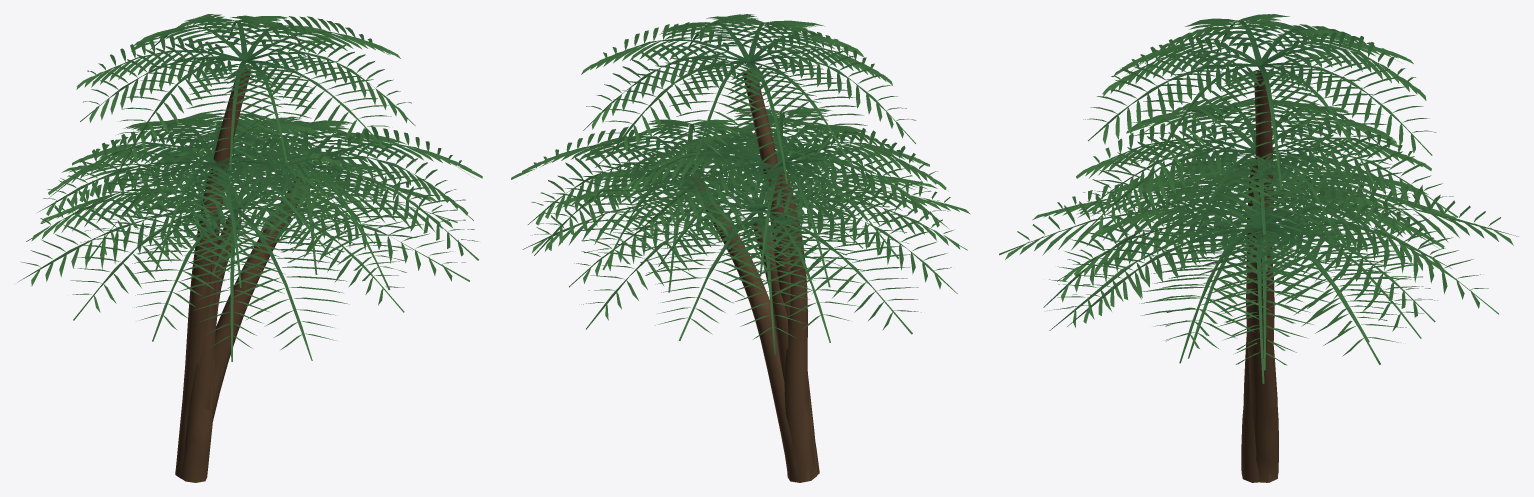
File: palm_library_lod1.glb
3 renders of one model, left to right at view 1: azimuth 30°, elevation 25°; view 2: azimuth 150°, elevation 25°; view 3: azimuth 270°, elevation 25°, orthographic. The views are drawn at different scales.
Visible parts, largest first — view 1: GEO_palm_wide_fronds_lod1, GEO_palm_upright_fronds_lod1, GEO_palm_tall_fronds_lod1, GEO_palm_leaning_fronds_lod1, GEO_palm_tall_trunk_lod1, GEO_palm_upright_trunk_lod1, GEO_palm_leaning_trunk_lod1, GEO_palm_wide_trunk_lod1; view 2: GEO_palm_wide_fronds_lod1, GEO_palm_tall_fronds_lod1, GEO_palm_upright_fronds_lod1, GEO_palm_leaning_fronds_lod1, GEO_palm_upright_trunk_lod1, GEO_palm_leaning_trunk_lod1, GEO_palm_tall_trunk_lod1, GEO_palm_wide_trunk_lod1; view 3: GEO_palm_leaning_fronds_lod1, GEO_palm_upright_fronds_lod1, GEO_palm_tall_fronds_lod1, GEO_palm_wide_fronds_lod1, GEO_palm_leaning_trunk_lod1, GEO_palm_wide_trunk_lod1, GEO_palm_tall_trunk_lod1.
Part boxes in pixels (x1,y1,x2,y2): GEO_palm_wide_fronds_lod1: (17, 145, 469, 361); GEO_palm_upright_fronds_lod1: (37, 113, 379, 287); GEO_palm_tall_fronds_lod1: (76, 14, 415, 171); GEO_palm_leaning_fronds_lod1: (132, 116, 482, 289); GEO_palm_tall_trunk_lod1: (182, 68, 250, 482); GEO_palm_upright_trunk_lod1: (175, 173, 221, 478); GEO_palm_leaning_trunk_lod1: (175, 177, 302, 476); GEO_palm_wide_trunk_lod1: (178, 214, 241, 482); GEO_palm_wide_fronds_lod1: (522, 135, 970, 354); GEO_palm_tall_fronds_lod1: (581, 14, 915, 183); GEO_palm_upright_fronds_lod1: (606, 108, 948, 287); GEO_palm_leaning_fronds_lod1: (511, 119, 871, 292); GEO_palm_upright_trunk_lod1: (778, 171, 816, 482); GEO_palm_leaning_trunk_lod1: (688, 175, 816, 482); GEO_palm_tall_trunk_lod1: (743, 71, 815, 449); GEO_palm_wide_trunk_lod1: (753, 217, 819, 477); GEO_palm_leaning_fronds_lod1: (1057, 166, 1451, 383); GEO_palm_upright_fronds_lod1: (1076, 95, 1457, 271); GEO_palm_tall_fronds_lod1: (1083, 14, 1436, 189); GEO_palm_wide_fronds_lod1: (999, 155, 1518, 370); GEO_palm_leaning_trunk_lod1: (1246, 231, 1278, 482); GEO_palm_wide_trunk_lod1: (1241, 231, 1274, 482); GEO_palm_tall_trunk_lod1: (1243, 71, 1273, 405).
Size of the model in its own units: 9.03 by 8.33 by 8.66.
